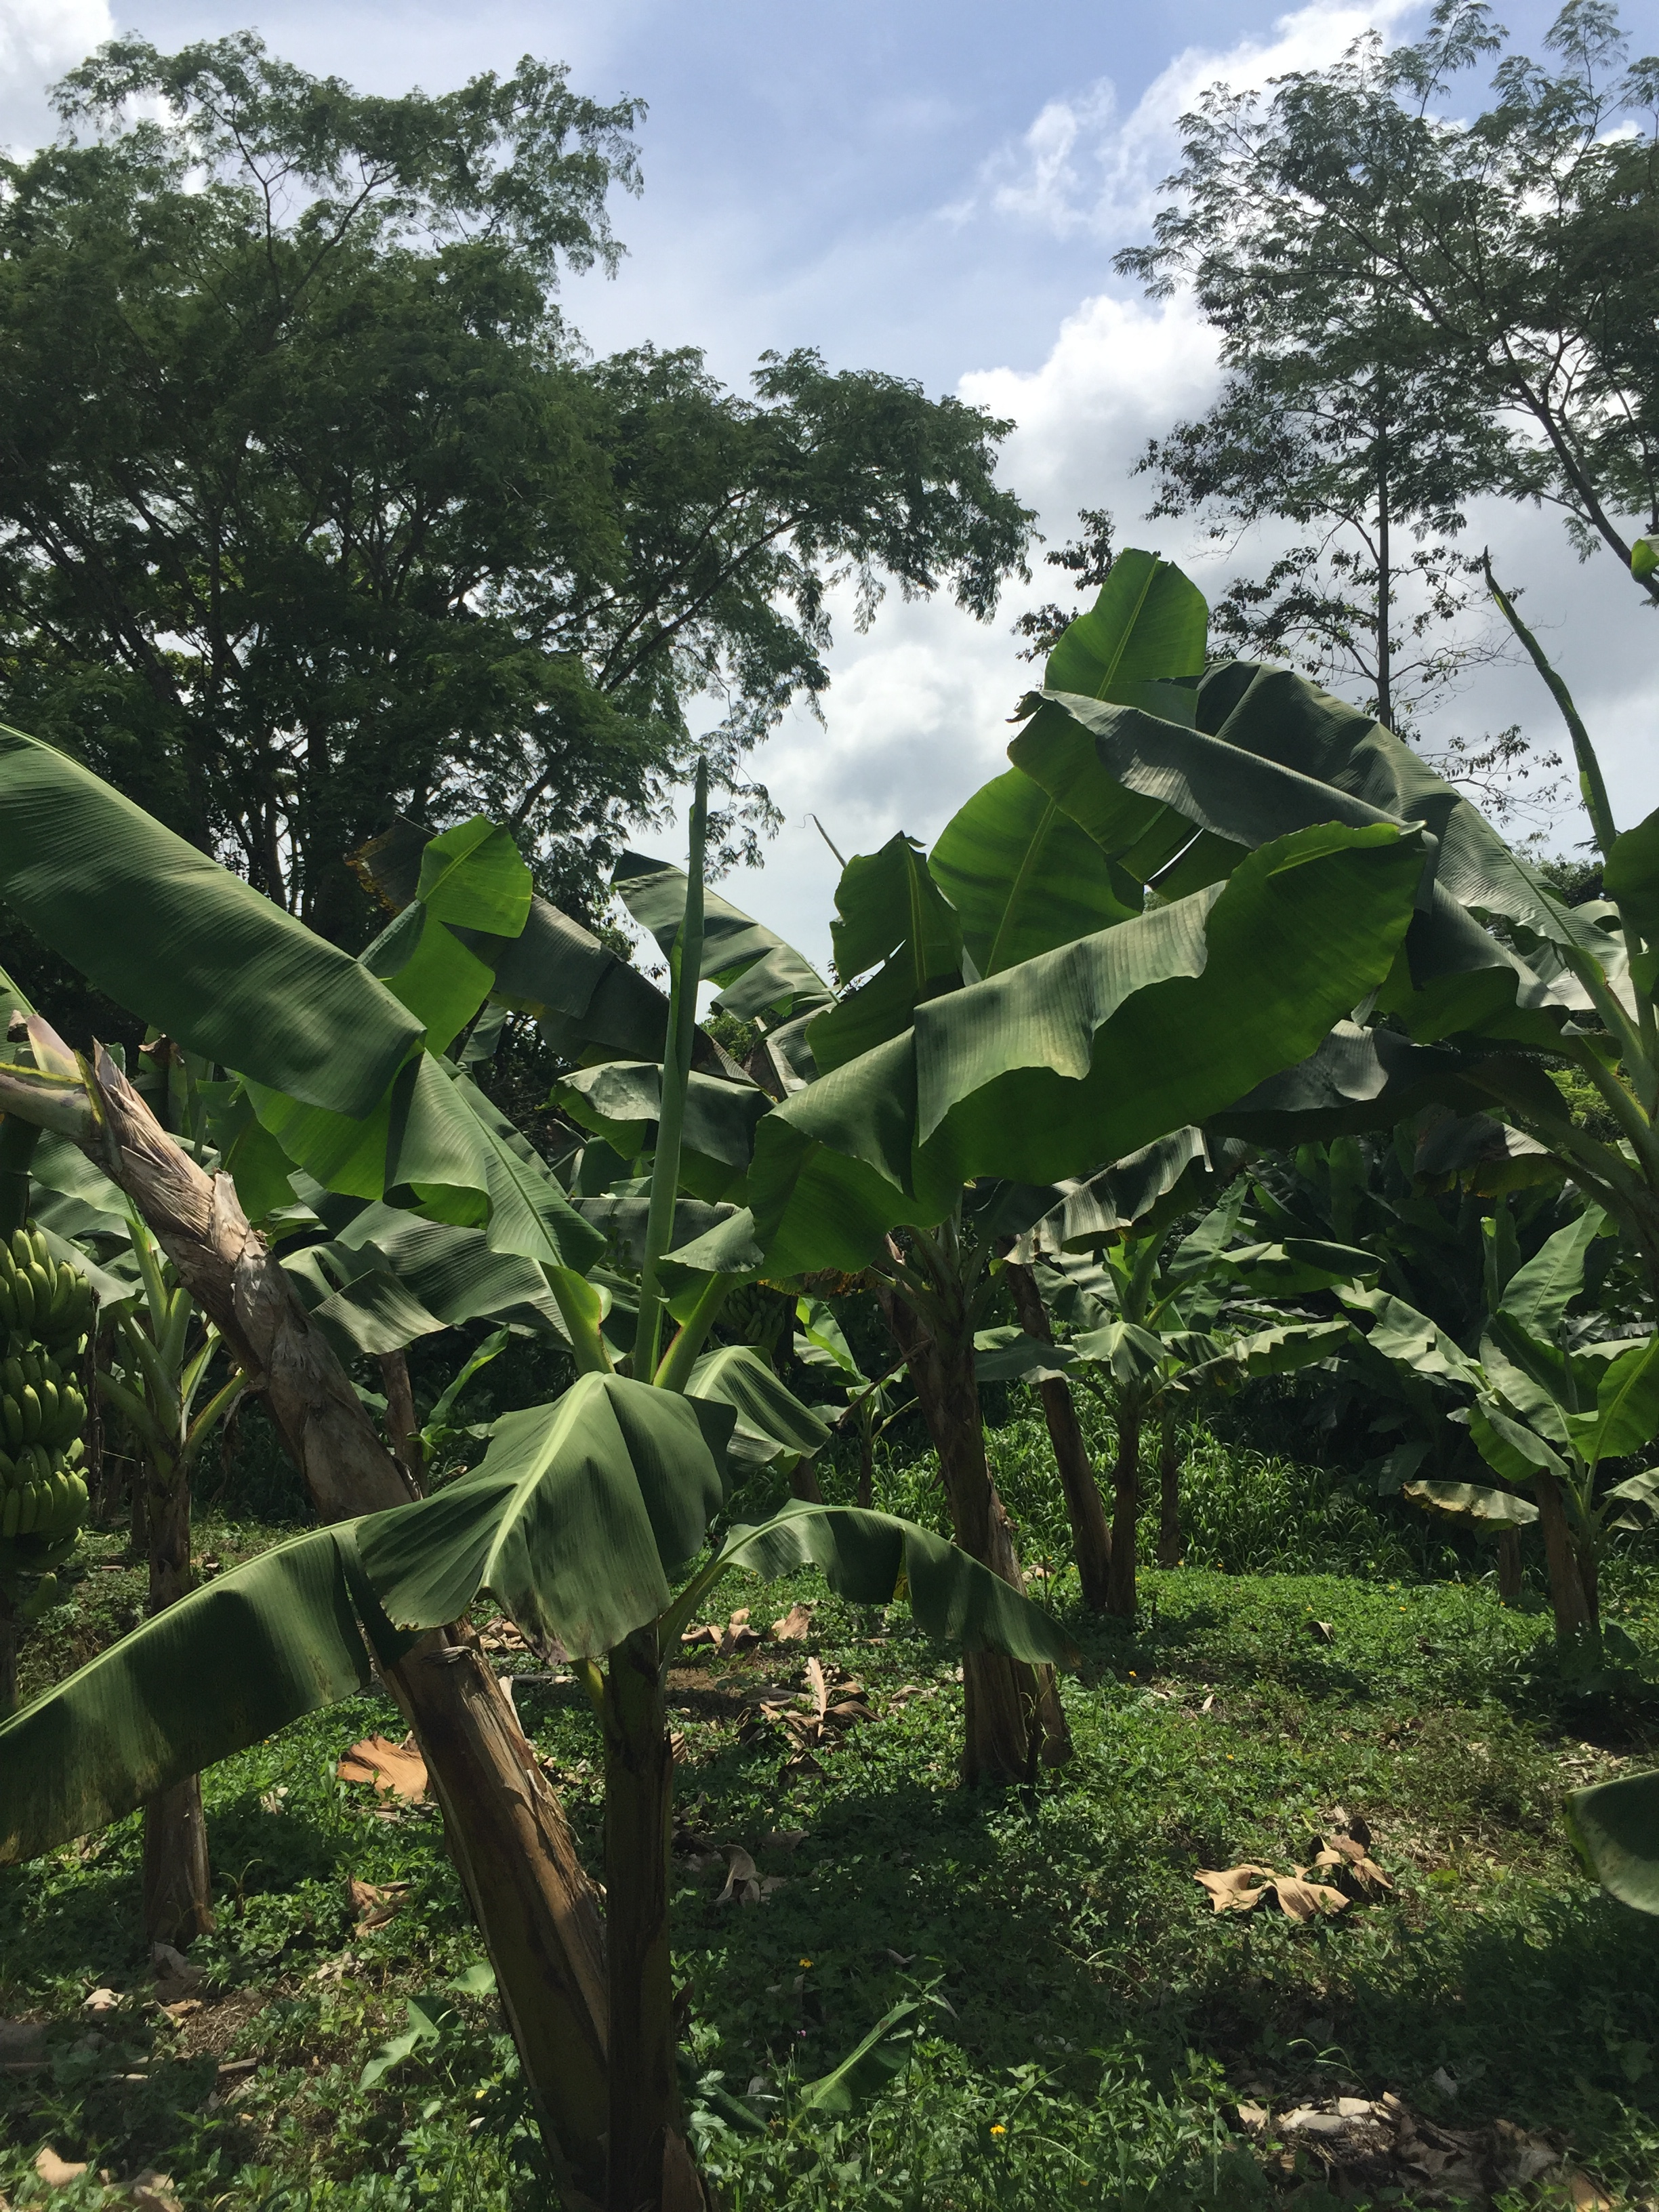candleleafs: (633, 752, 708, 1381), (1478, 545, 1622, 857)
